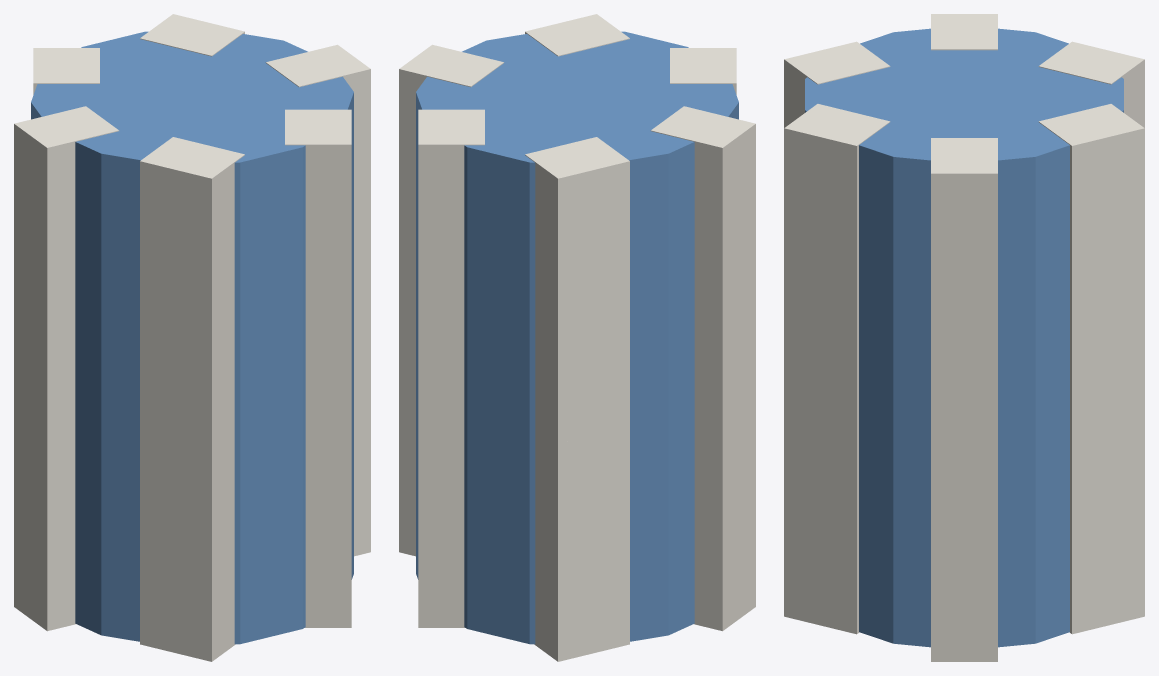
File: casino-floor-and-back-rooms-chip-stack-blue-36142745__27027.glb
The picture shows the model from 3 angles, left to right: view 1: azimuth 30°, elevation 25°; view 2: azimuth 150°, elevation 25°; view 3: azimuth 270°, elevation 25°; orthographic projection.
Parts seen in each view (by area): view 1: chip-stack-blue; view 2: chip-stack-blue; view 3: chip-stack-blue.
Part boxes in pixels (x1,y1,x2,y2): chip-stack-blue: [14, 14, 370, 661]; chip-stack-blue: [399, 14, 755, 661]; chip-stack-blue: [784, 14, 1144, 661].
Bounding box in the file's own units: 0.045 × 0.0642 × 0.043.
